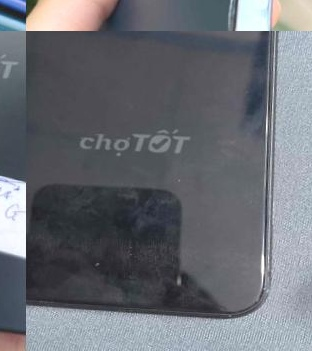scratch: (88, 259, 100, 268)
